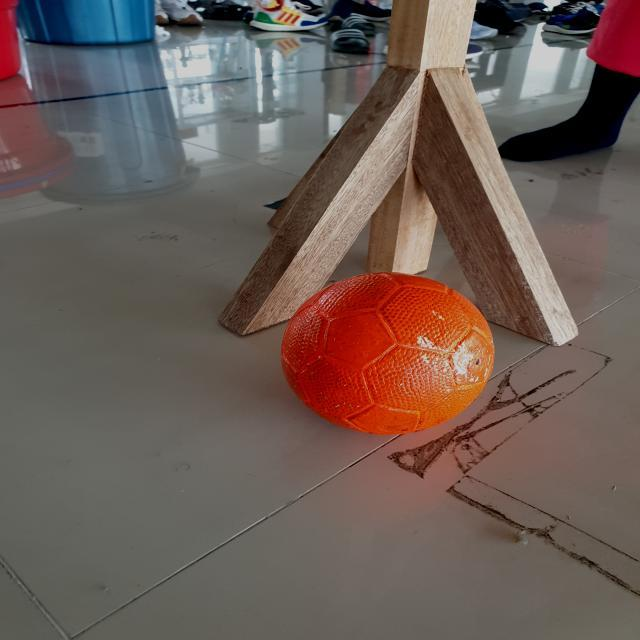bola: (270, 258, 514, 446)
